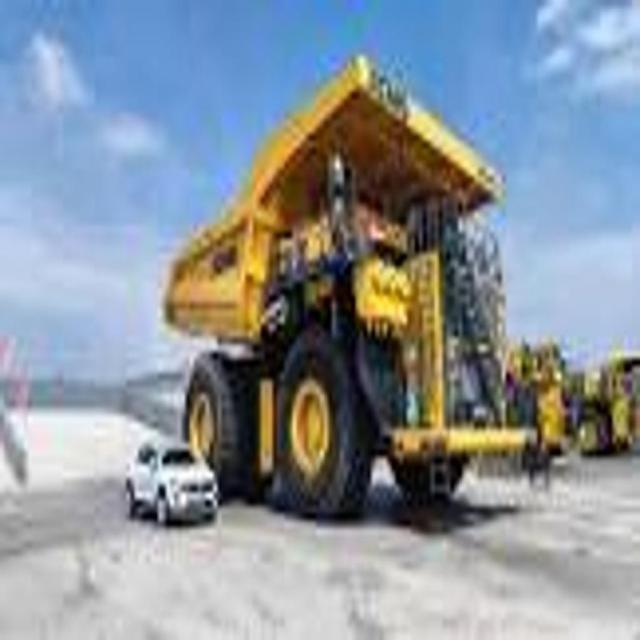dump_truck: (161, 50, 543, 539)
